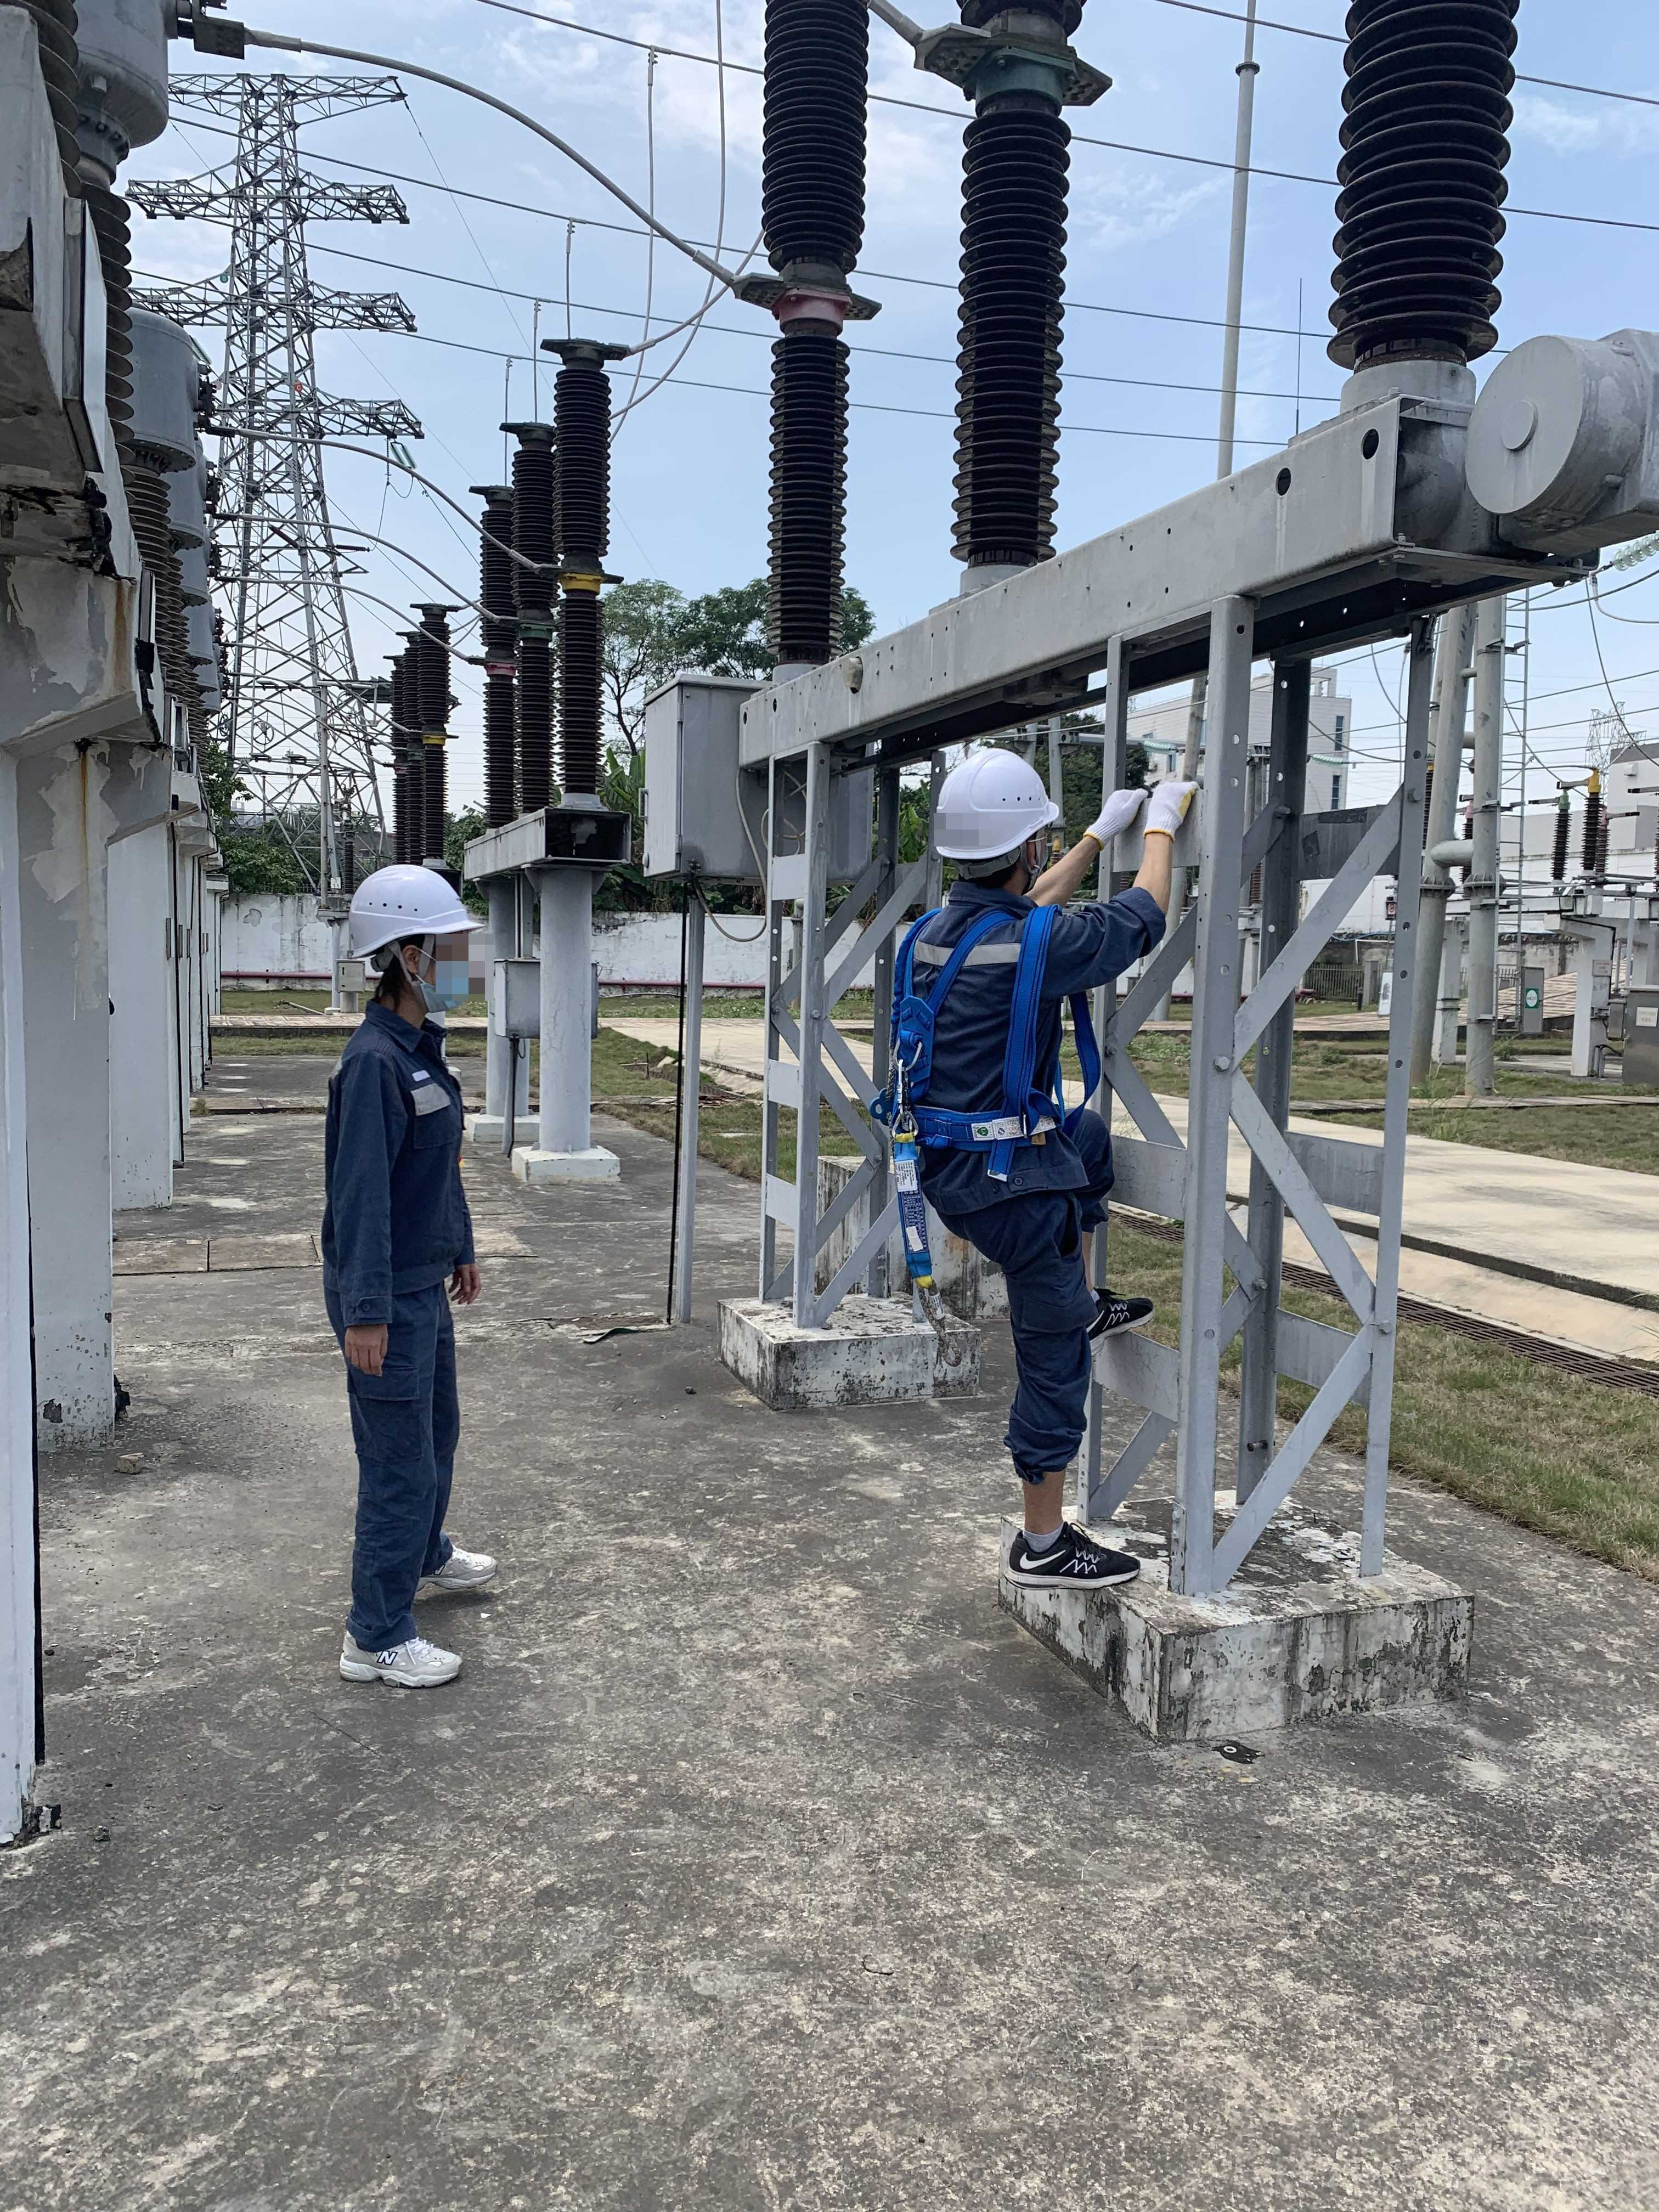downsuit: (913, 1151, 1117, 1470), (343, 1325, 464, 1646)
upsuit: (890, 887, 1173, 1170), (322, 1029, 476, 1308)
wrongbottom: (997, 1397, 1087, 1541)
wrongtop: (1028, 792, 1188, 918)
